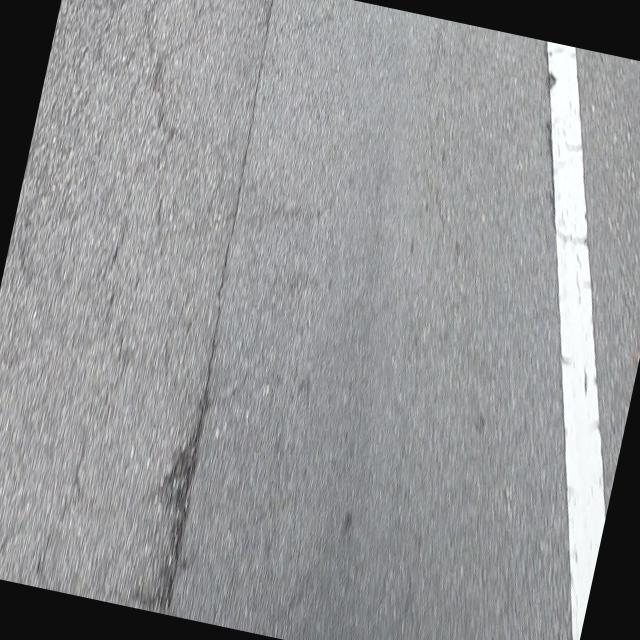Retak-Memanjang: (161, 0, 273, 613)
